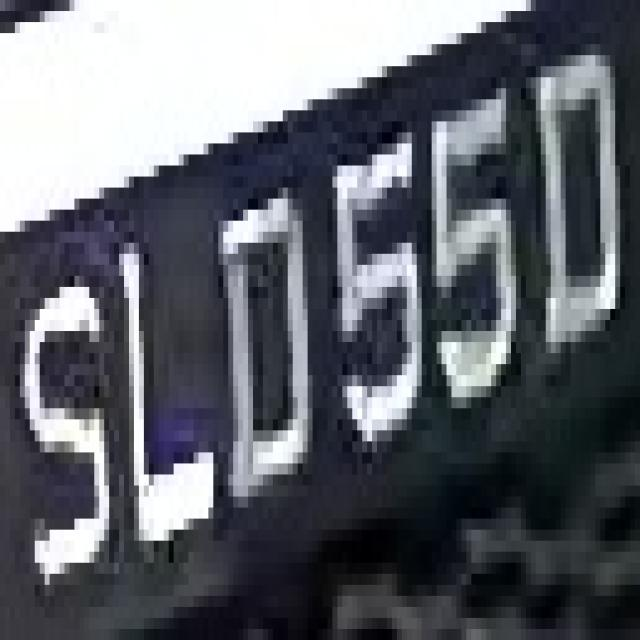5: (417, 88, 526, 420), (322, 121, 422, 442)
D: (208, 165, 318, 540), (526, 33, 630, 386)
L: (104, 220, 218, 562)
S: (20, 265, 109, 596)
